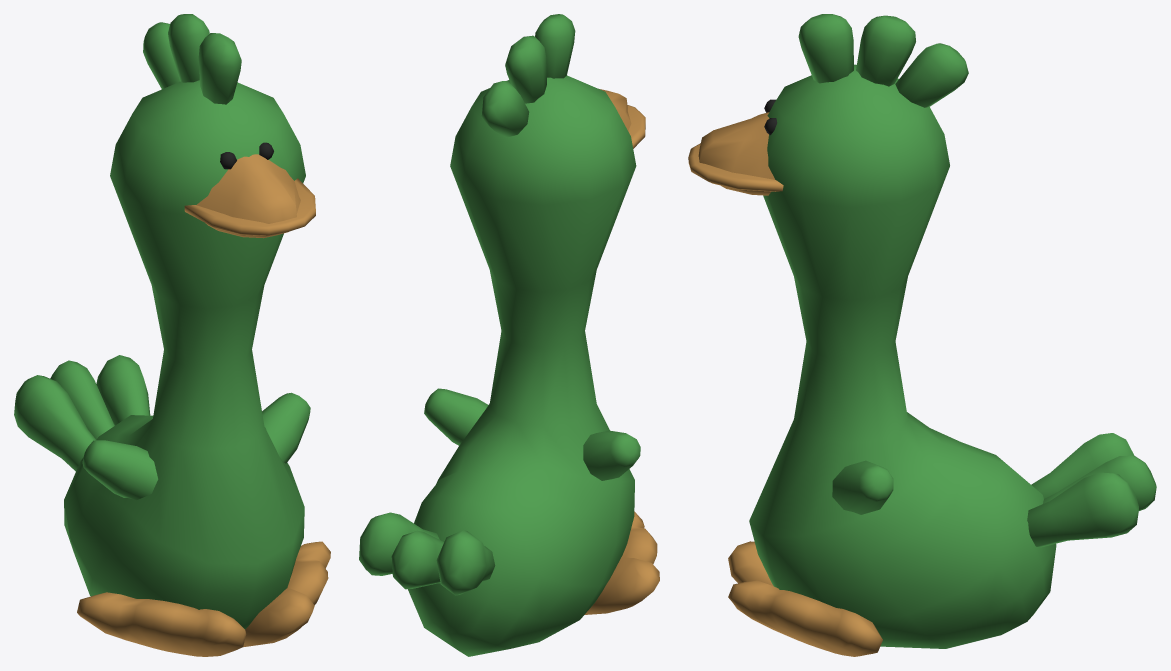
The model's file is BirdToy_01.fbx.
3 renders of one model, left to right at view 1: azimuth 30°, elevation 25°; view 2: azimuth 150°, elevation 25°; view 3: azimuth 270°, elevation 25°, orthographic. The views are drawn at different scales.
Visible parts, largest first — view 1: BirdToy_01; view 2: BirdToy_01; view 3: BirdToy_01.
Boxes of the visible parts, <box> form: BirdToy_01: <box>14,14,330,656</box>; BirdToy_01: <box>359,14,659,656</box>; BirdToy_01: <box>688,14,1156,656</box>.
Bounding box in the file's own units: 0.1532 × 0.3673 × 0.248.
